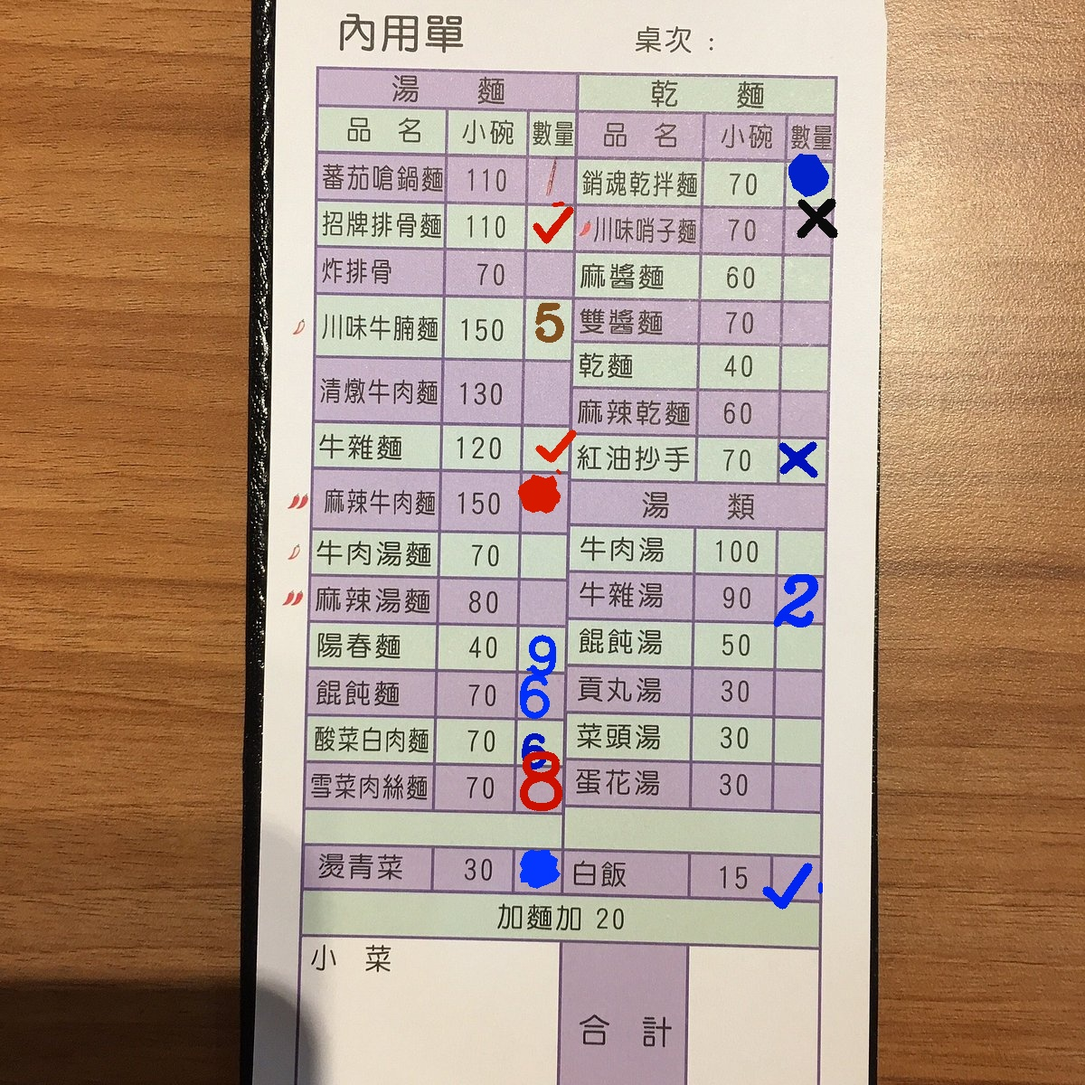marked_circle: (519, 470, 565, 533), (786, 159, 834, 205), (514, 846, 561, 892)
marked_number_2: (775, 575, 823, 621)
marked_number_5: (524, 297, 570, 359)
marked_number_6: (516, 716, 564, 762), (517, 670, 565, 716)
marked_number_8: (514, 762, 562, 808)
marked_number_9: (517, 623, 565, 669)
marked_tick: (525, 203, 573, 250), (772, 854, 820, 901), (520, 426, 568, 472)
marked_x: (778, 436, 826, 482), (782, 206, 830, 252)
